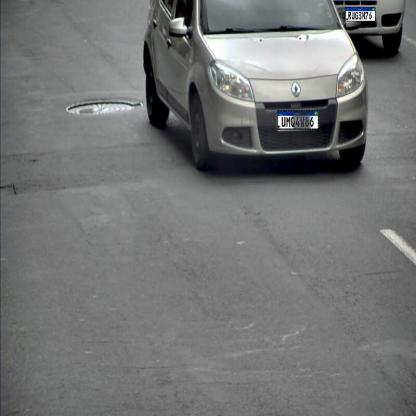PlacaM: (277, 110, 319, 130), (346, 7, 376, 21)
